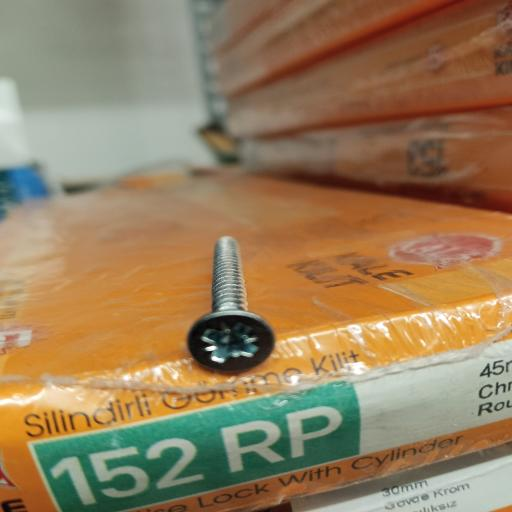Pozidriv: (185, 309, 280, 379)
